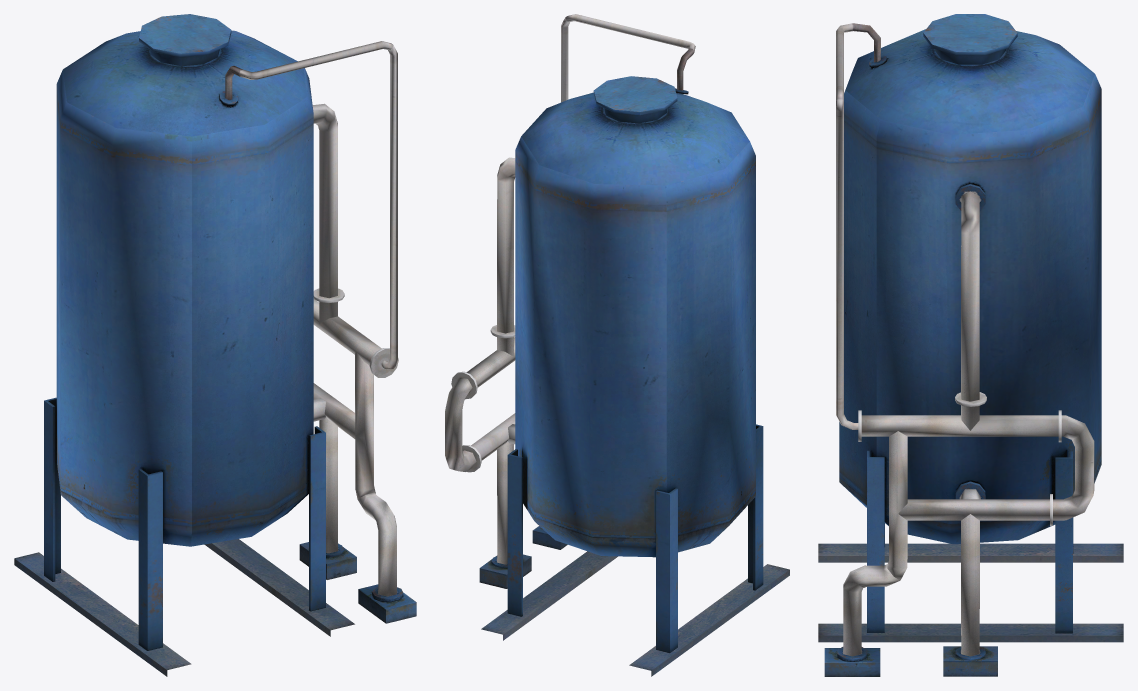
Rendered from Prop_Gl01_v2.glb.
3 views of the same model, side by side, from view 1: azimuth 30°, elevation 25°; view 2: azimuth 150°, elevation 25°; view 3: azimuth 270°, elevation 25° (orthographic). The views are drawn at different scales.
Parts seen in each view (by area): view 1: xiutz_gl_01; view 2: xiutz_gl_01; view 3: xiutz_gl_01.
Boxes of the visible parts, box(x1,y1,x2,y2) form: xiutz_gl_01: box(14, 14, 416, 676); xiutz_gl_01: box(445, 14, 789, 676); xiutz_gl_01: box(818, 14, 1123, 676).
Bounding box in the file's own units: 2.26 × 4.56 × 2.2.
1 material, 1 textured.
